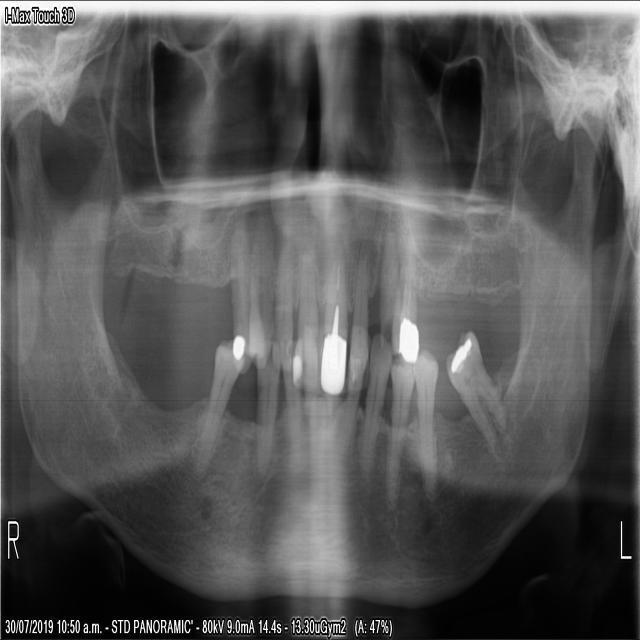LCD: (357, 324, 394, 479)
LIU: (317, 224, 349, 401), (343, 243, 370, 400)
LMD: (440, 321, 507, 456)
LPMD: (382, 349, 417, 504), (411, 337, 439, 500)
LPMU: (387, 220, 421, 364)
RCU: (245, 209, 276, 374)
RID: (250, 332, 281, 482), (276, 331, 306, 472)
RIU: (288, 233, 320, 400), (269, 224, 295, 377)
RPMD: (190, 329, 243, 471)
RPMU: (225, 208, 265, 377)
